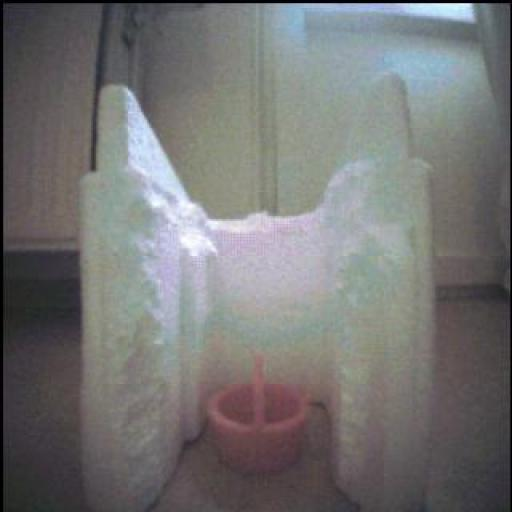Basket: (208, 356, 309, 475)
